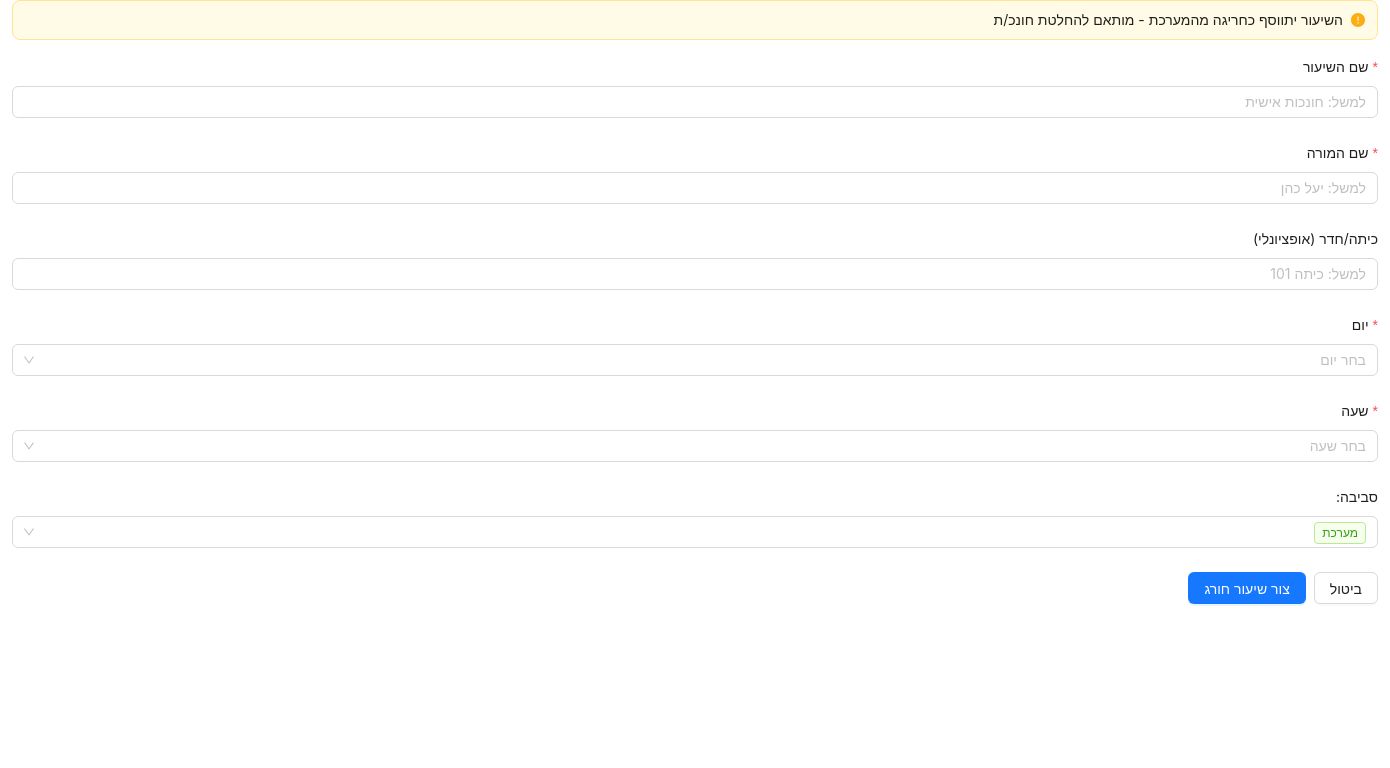
ScheduleOverrideForm time slot picker › filters slots by name when searching
Press the mouse on the dropdown labelled "שעה" at point(704, 446), box [42, 431, 1366, 461]
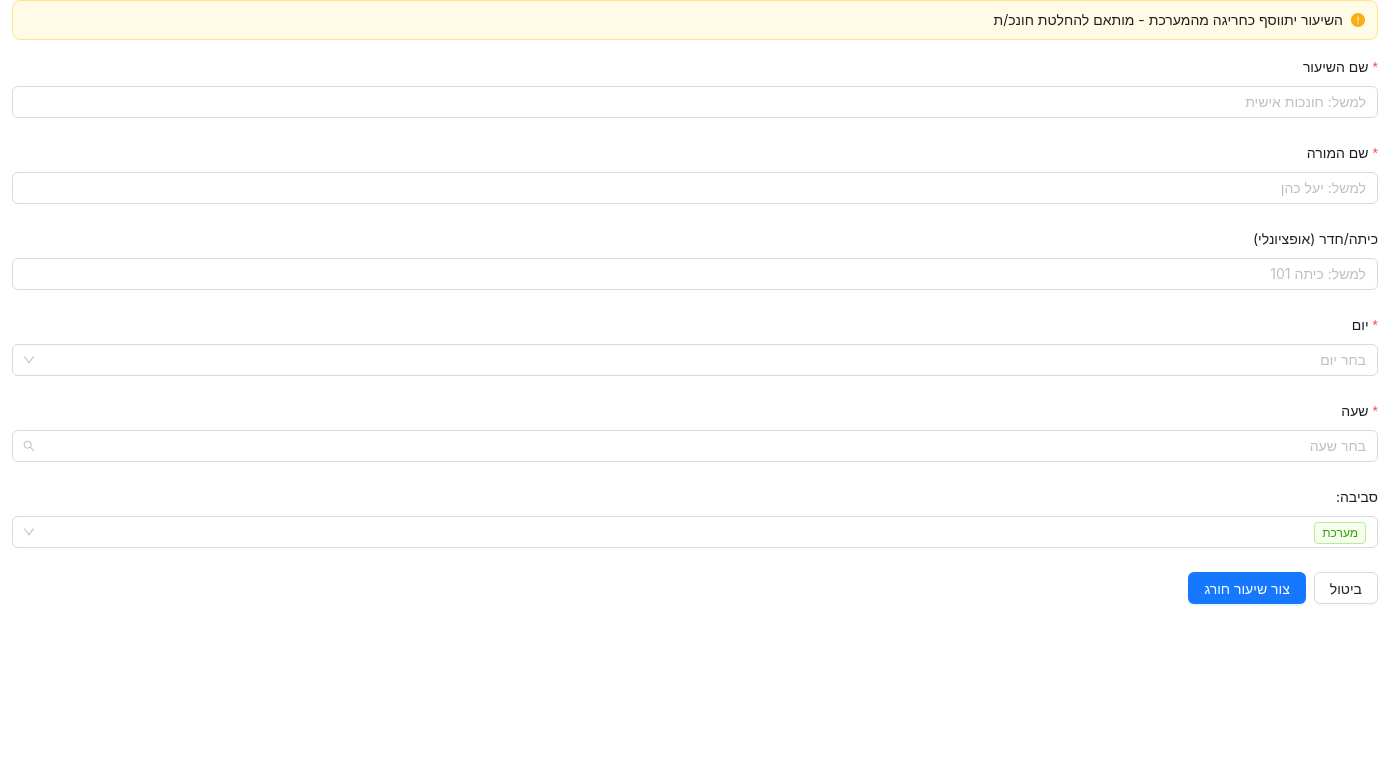
Type "מפגש" into the dropdown labelled "שעה" at point(704, 446), box [42, 431, 1366, 461]
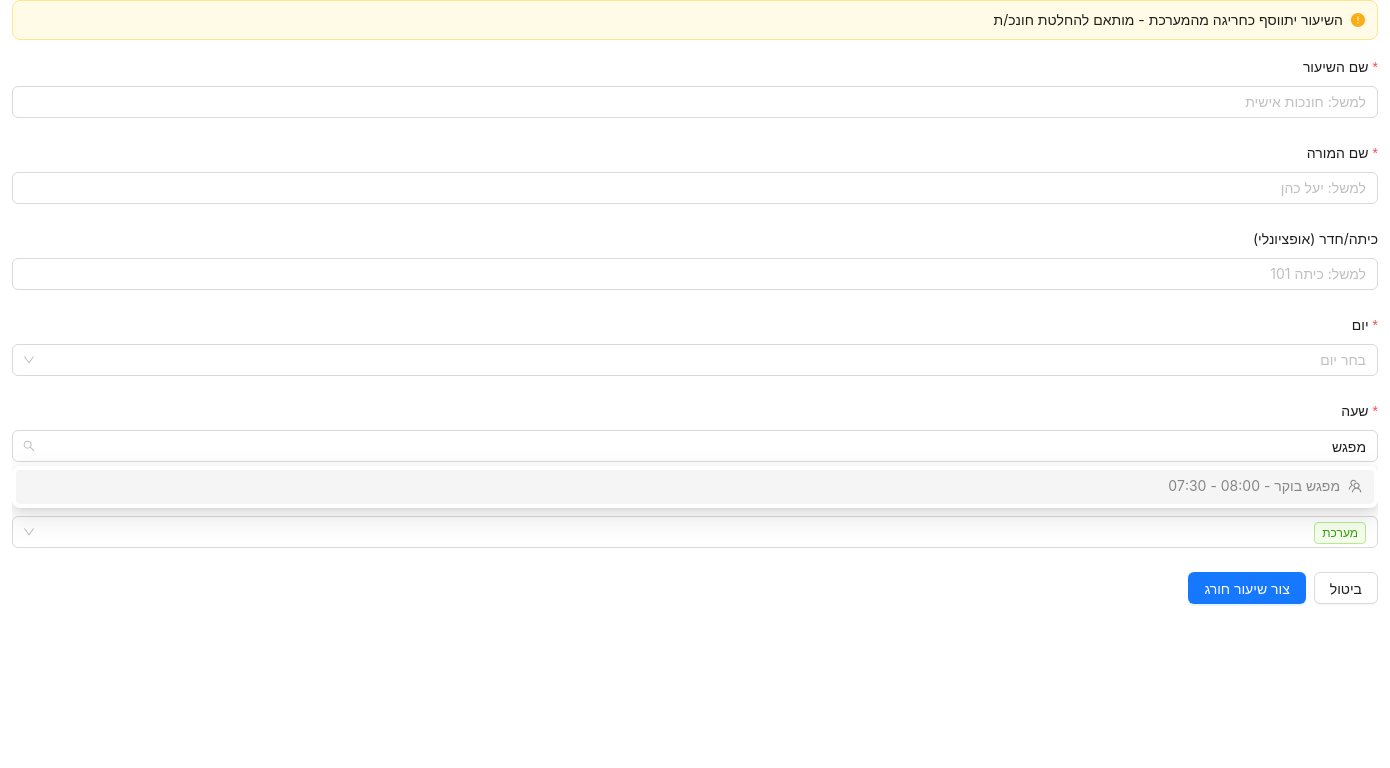
Now the text "מפגש בוקר - 08:00 - 07:30" is shown, box [1168, 475, 1362, 497]
Now the text "שיעור ראשון" is gone
